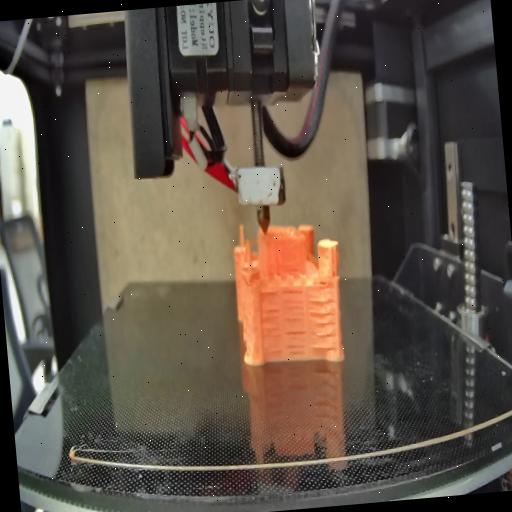cracks: (306, 294, 338, 354), (258, 306, 282, 358), (280, 288, 304, 324), (284, 326, 306, 360), (256, 288, 281, 304), (315, 276, 329, 289)
